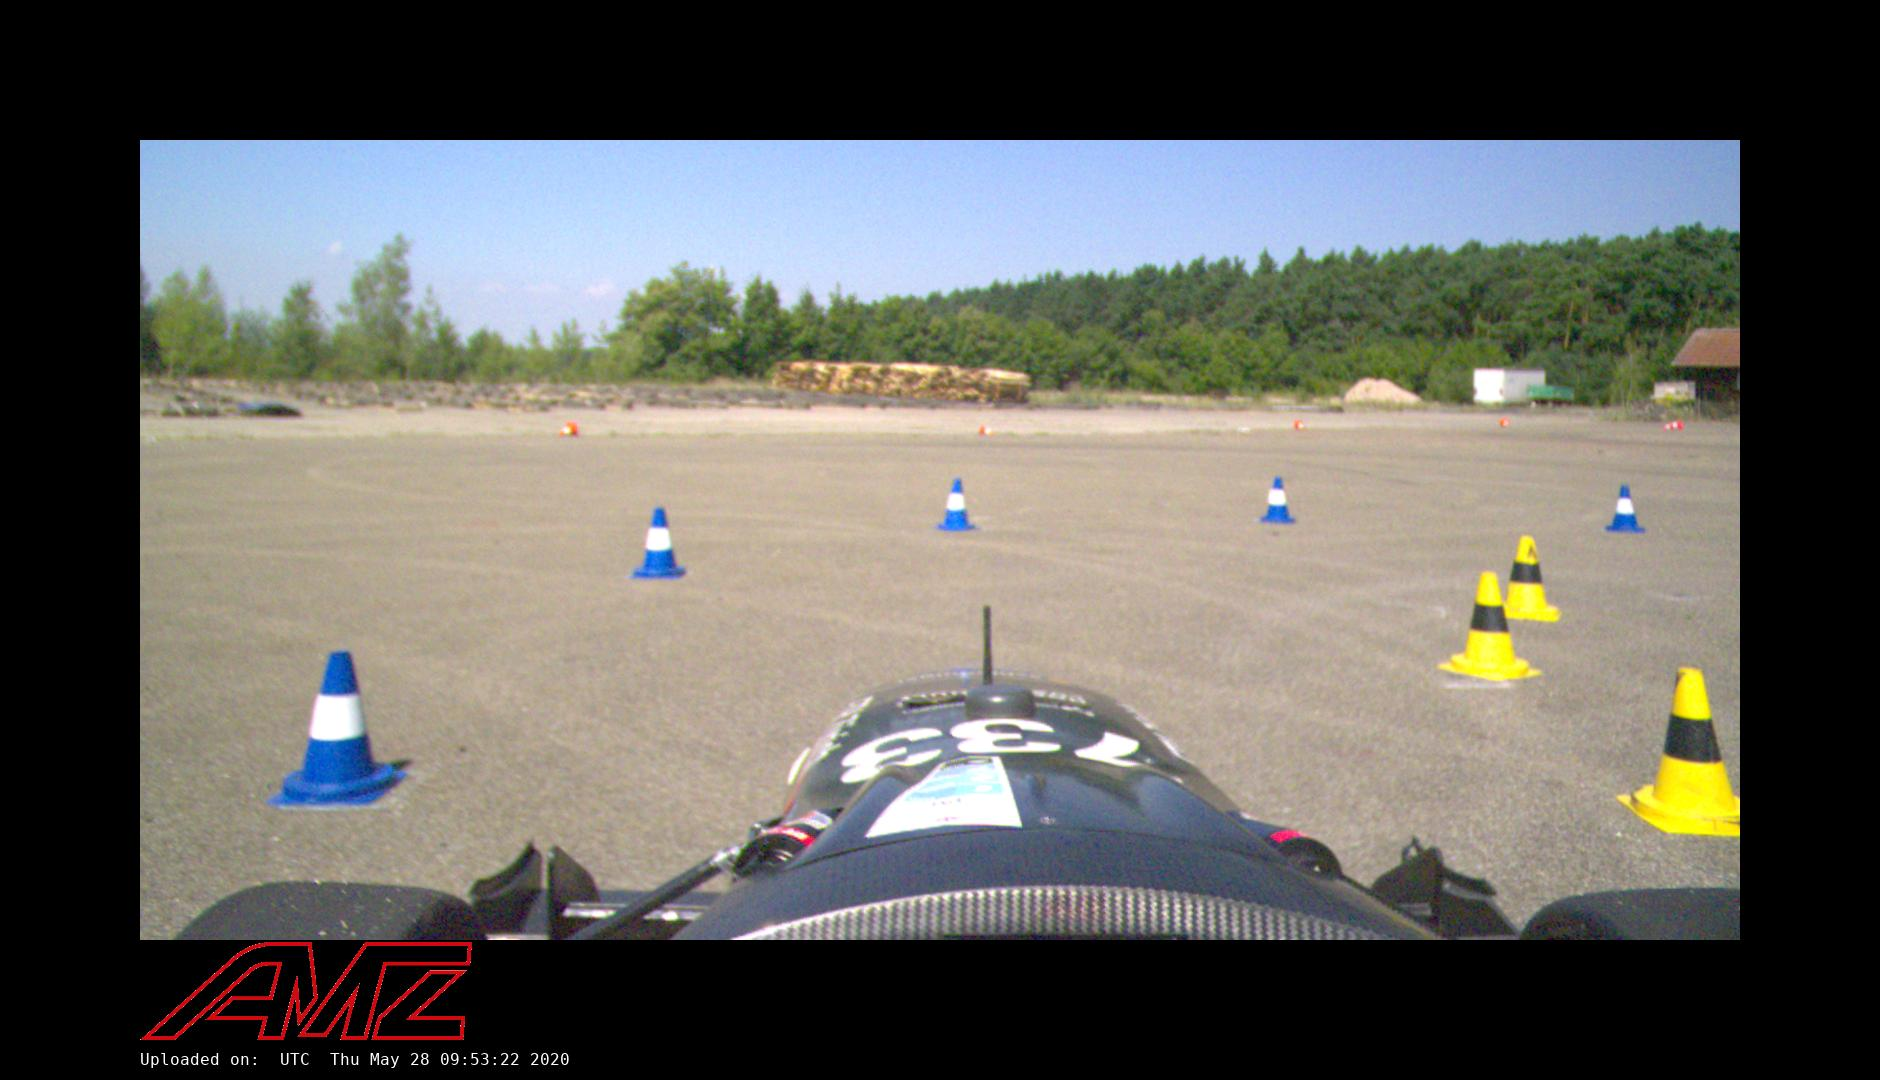blue_cone: (261, 649, 408, 813), (629, 506, 687, 579), (1604, 483, 1646, 534), (934, 478, 975, 530), (1262, 475, 1296, 524)
orange_cone: (559, 421, 578, 437), (1662, 420, 1682, 431), (979, 425, 994, 435), (1294, 420, 1304, 430), (1500, 419, 1509, 428)
yellow_cone: (1611, 669, 1739, 838), (1436, 570, 1542, 681), (1493, 536, 1561, 621)
